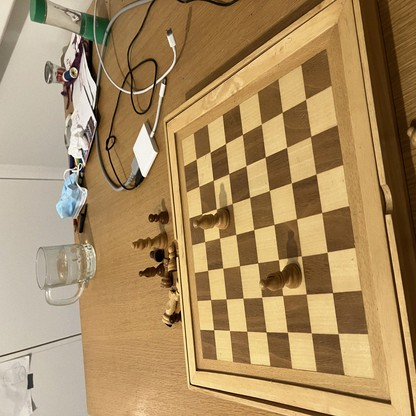bishop_black: (139, 264, 167, 277)
bishop_white: (259, 264, 302, 291), (193, 210, 229, 230)
king_white: (132, 231, 168, 249)
knight_white: (163, 291, 179, 324)
pawn_black: (149, 212, 168, 225)
pawn_white: (168, 244, 178, 269)
